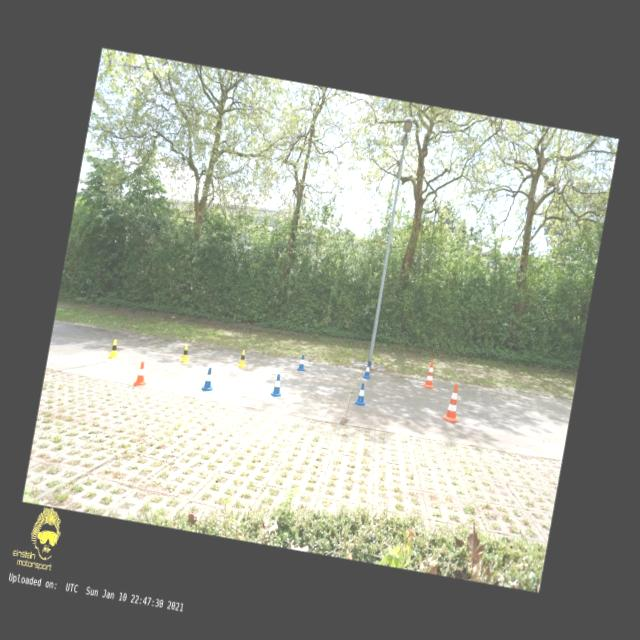blue_cone: (200, 366, 216, 393), (270, 373, 284, 397), (355, 382, 368, 406), (297, 354, 307, 371), (362, 362, 372, 378)
large_orange_cone: (441, 382, 465, 423), (422, 359, 438, 388)
orange_cone: (132, 361, 148, 386)
yellow_cone: (108, 338, 120, 359), (236, 348, 248, 368), (180, 343, 190, 363)
